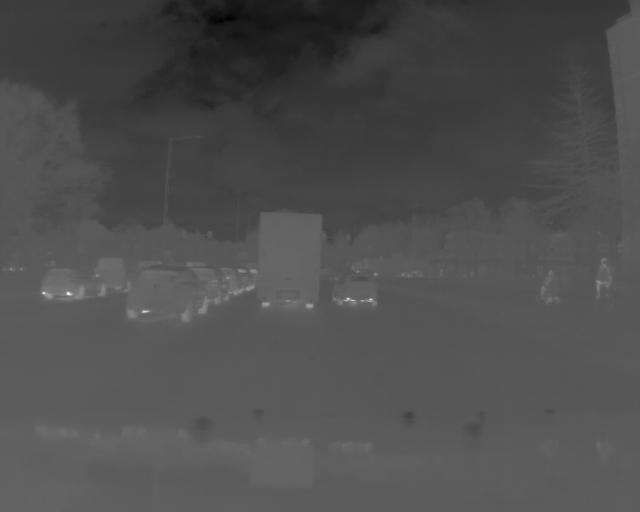car: (254, 209, 325, 311), (125, 262, 209, 326), (41, 263, 108, 302), (330, 270, 382, 310), (192, 265, 233, 307)
person: (590, 256, 615, 305)
